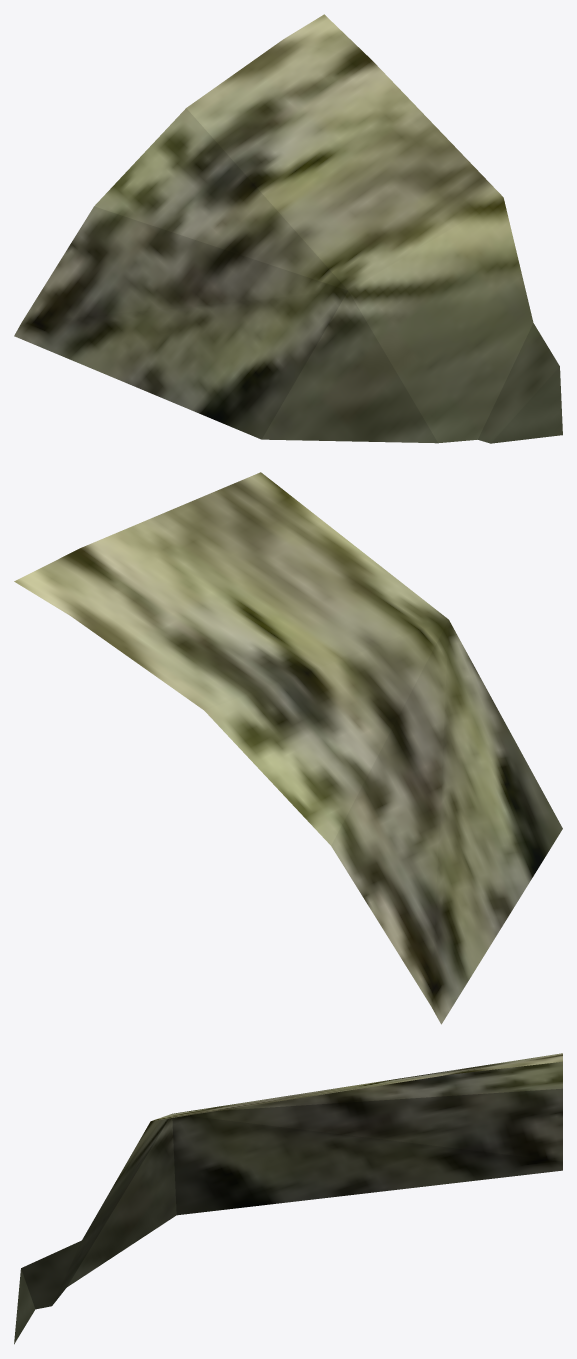
3 renders of one model, top to bottom at view 1: azimuth 30°, elevation 25°; view 2: azimuth 150°, elevation 25°; view 3: azimuth 270°, elevation 25°, orthographic. The views are drawn at different scales.
Size of the model in its own units: 0.6568 by 0.4978 by 0.875.
1 material, 1 textured.
